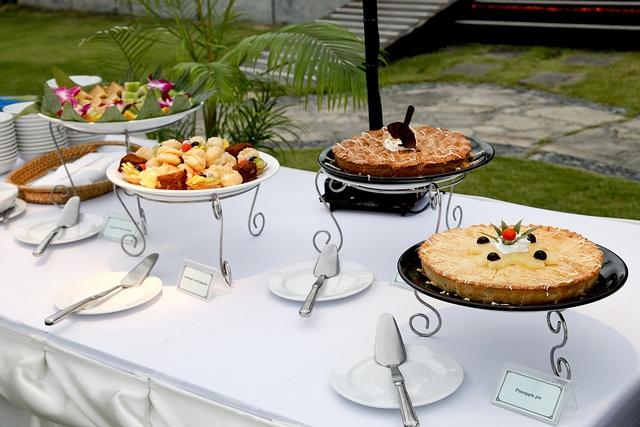tomato: (502, 228, 516, 241), (181, 143, 192, 153), (138, 164, 146, 171), (240, 159, 249, 164)
